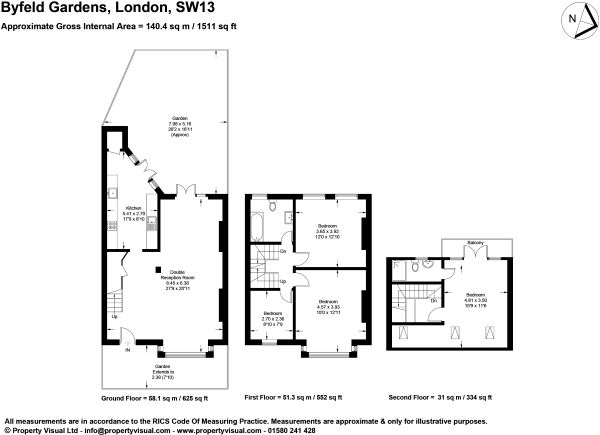GardenMeasurements: (160, 108, 199, 147)
GrossArea: (1, 19, 239, 34)
